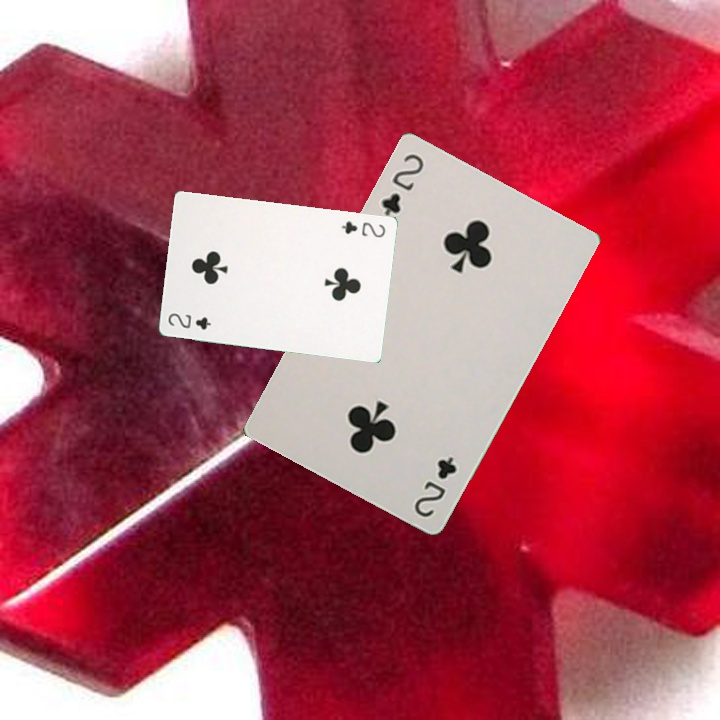2c: (377, 149, 427, 219), (409, 452, 459, 520), (337, 217, 388, 240), (164, 309, 214, 332)
